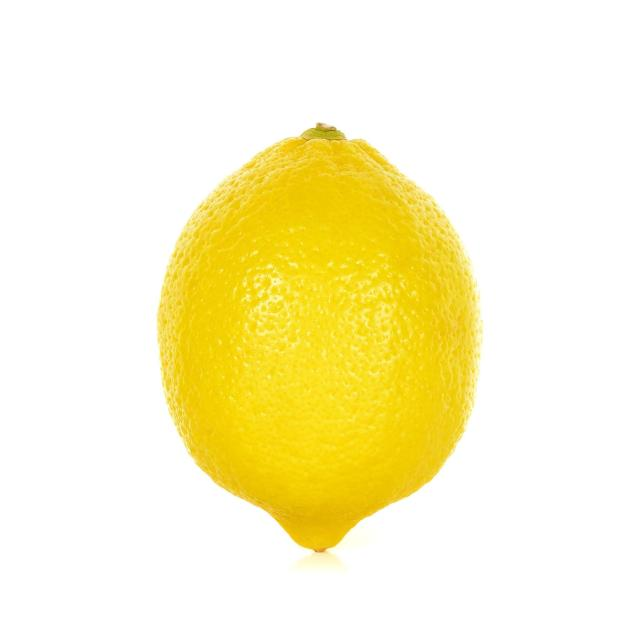lemon: (151, 115, 490, 560)
